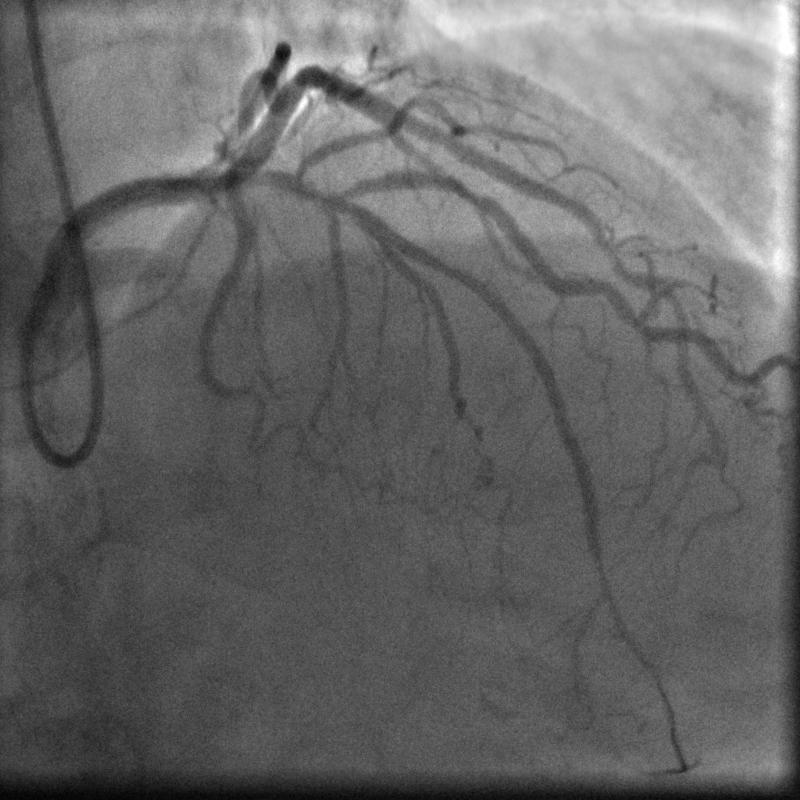Stenosis: (455, 173, 490, 218)
